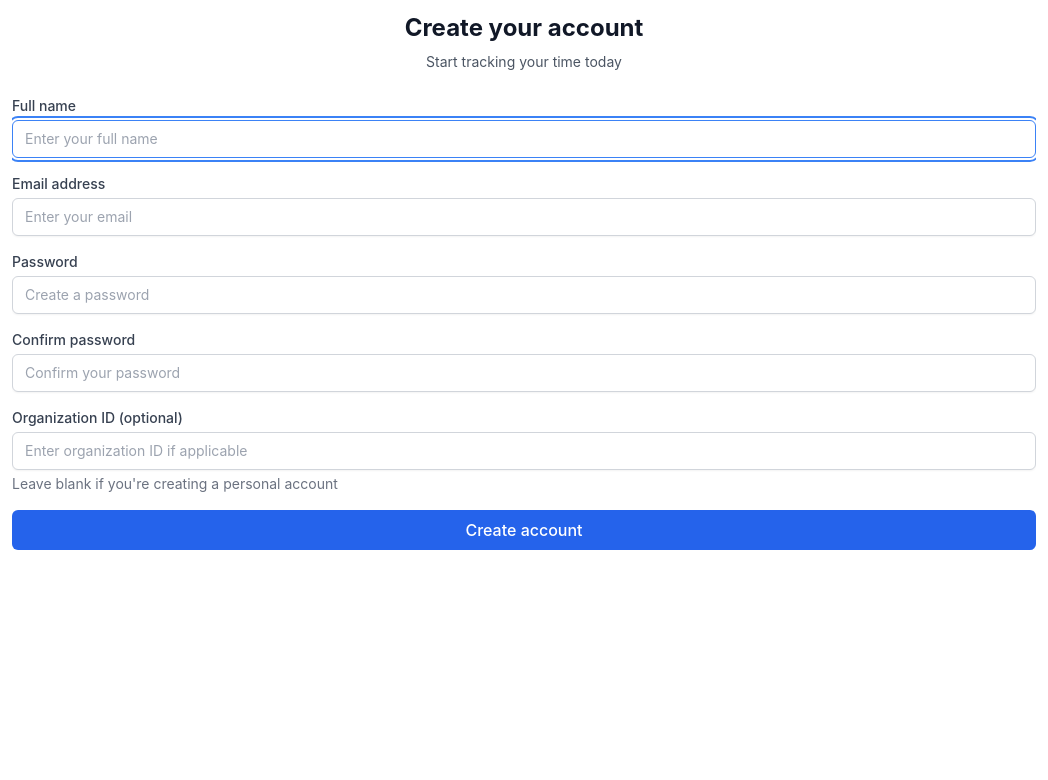
it: RegisterForm › shows validation errors for empty required fields
The width and height of the screenshot is (1048, 780).
Click the button "Create account". click: click(524, 530)
box: left=12, top=510, right=1036, bottom=550
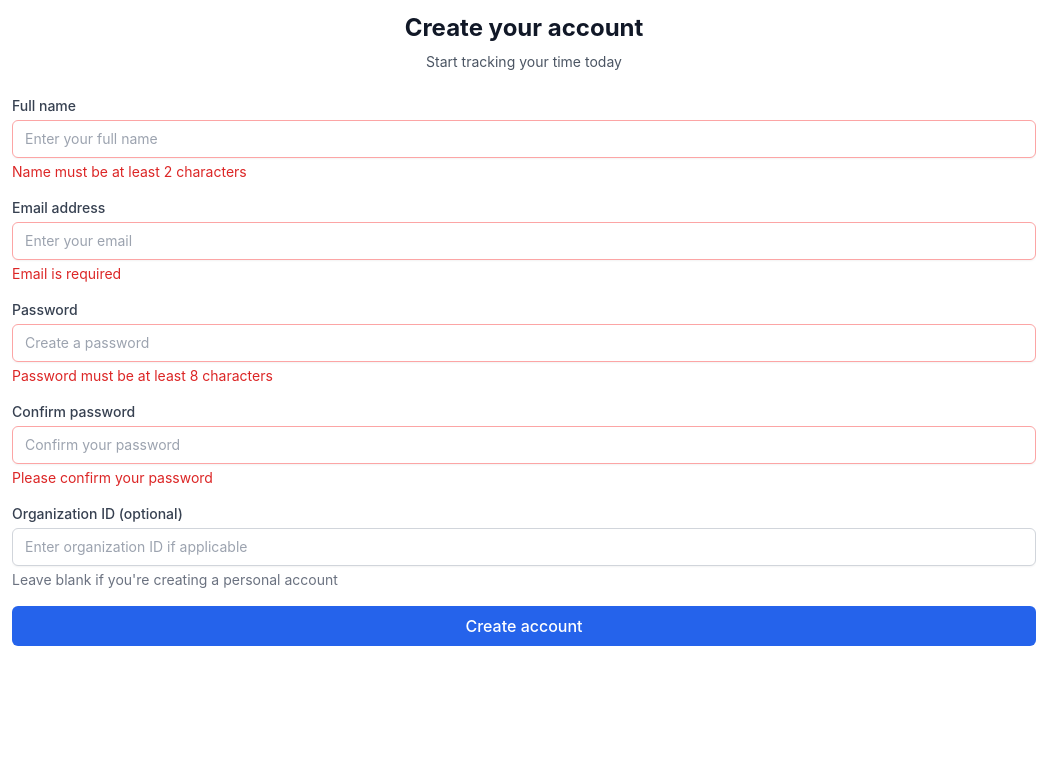
Expected: the text "Name must be at least 2 characters" is shown, left=12, top=163, right=247, bottom=180
Expected: the text "Email is required" is shown, left=12, top=265, right=121, bottom=282
Expected: the text "Password must be at least 8 characters" is shown, left=12, top=367, right=273, bottom=384
